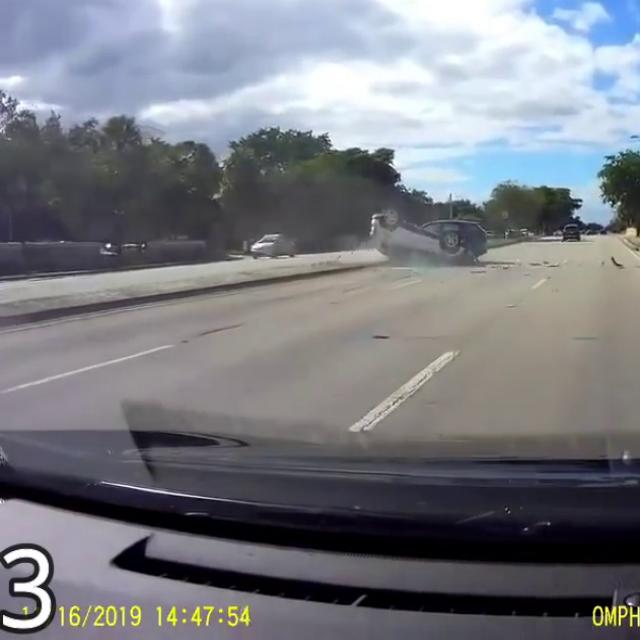accident: (350, 206, 472, 271)
